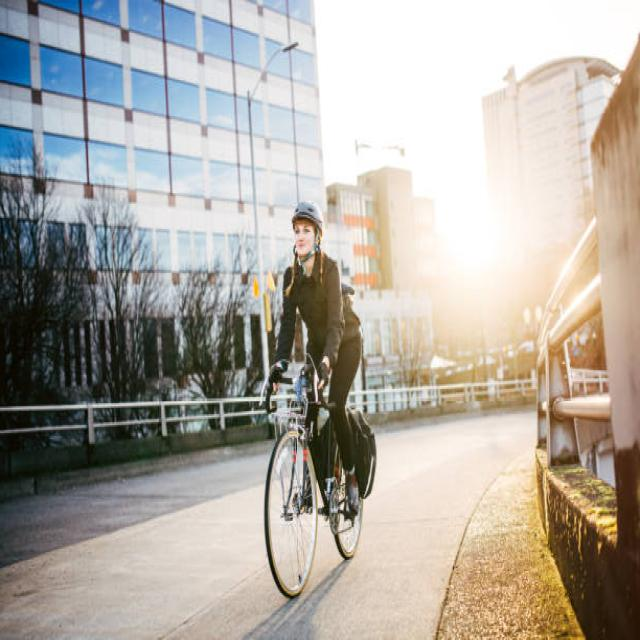bicycle: (261, 202, 376, 596)
